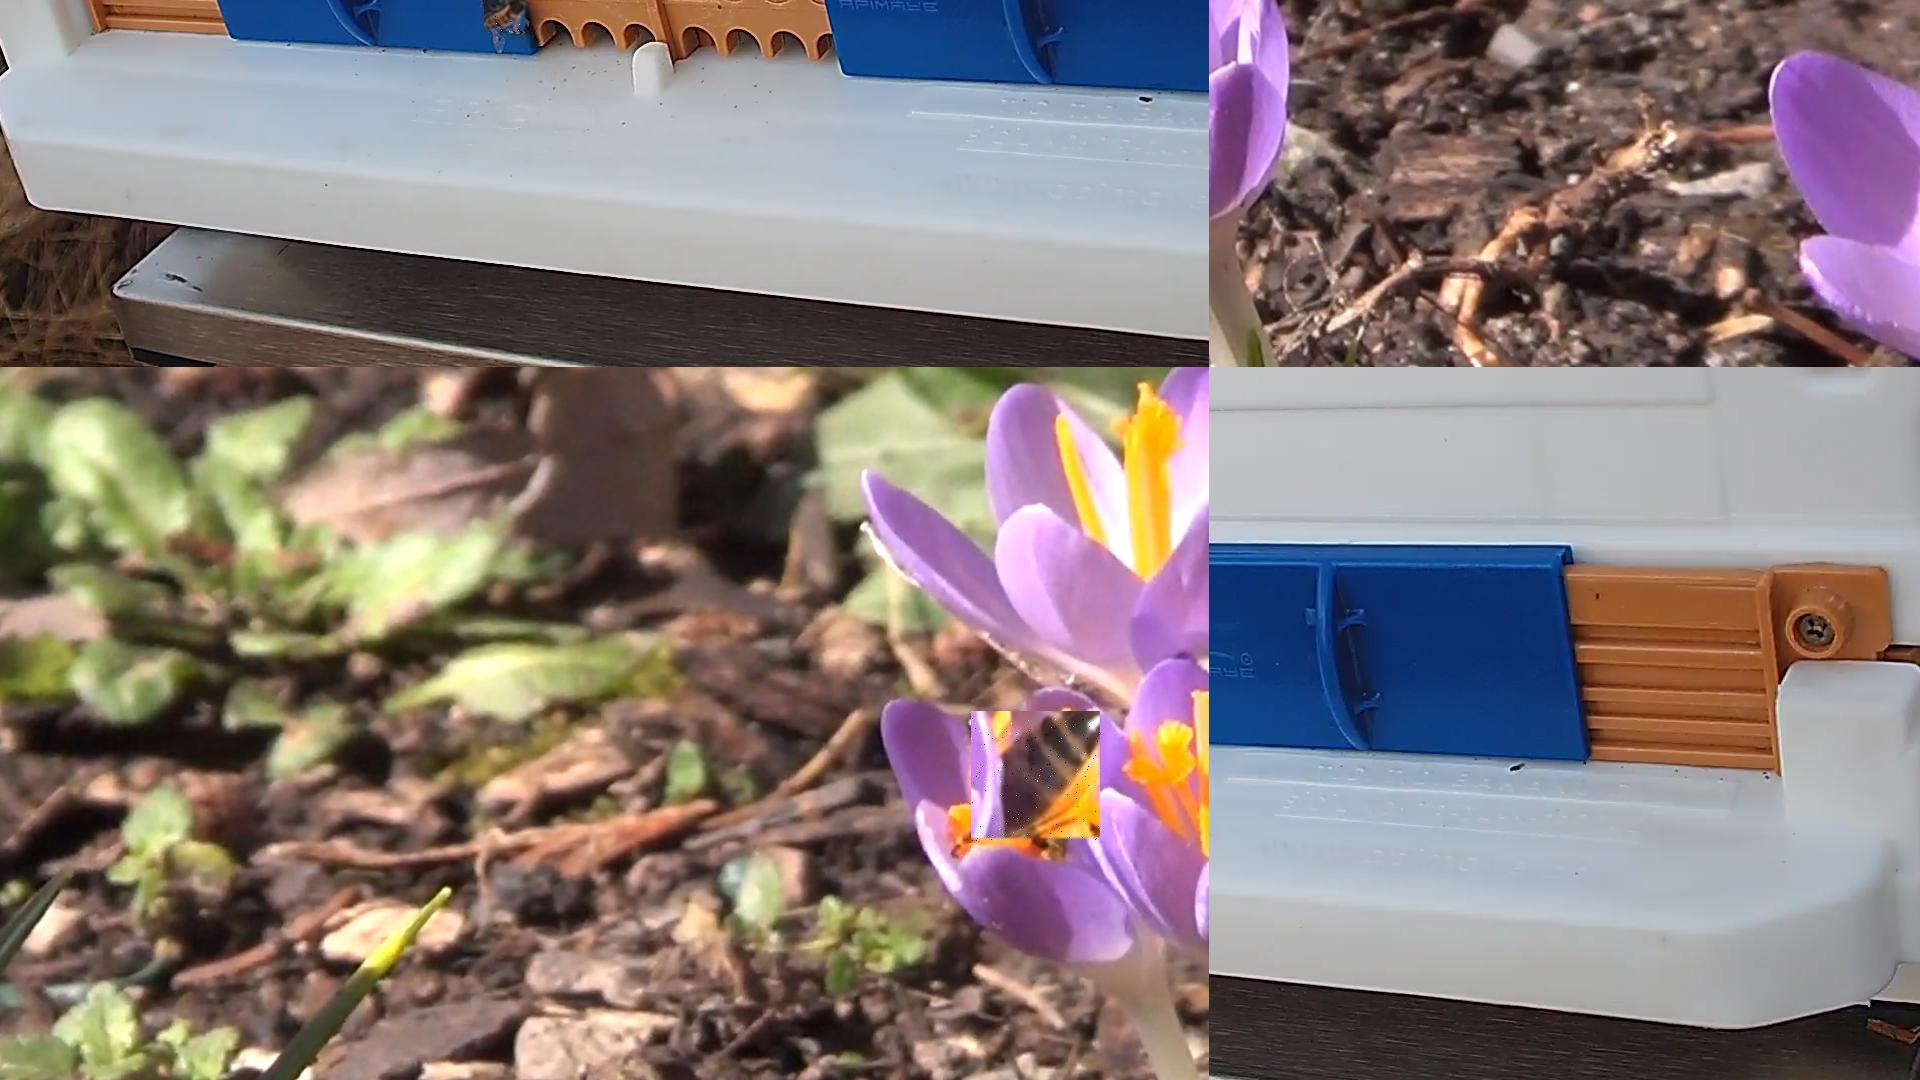bee: (972, 712, 1101, 843), (485, 0, 530, 34)
